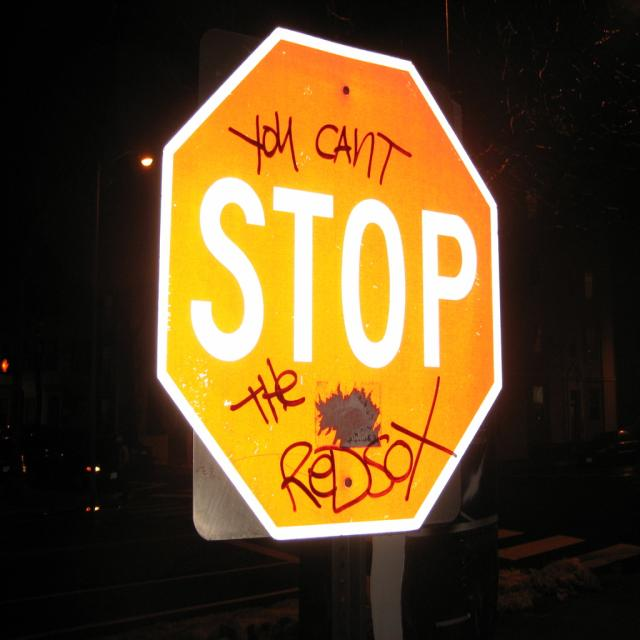Stop-sign: (157, 29, 503, 536)
